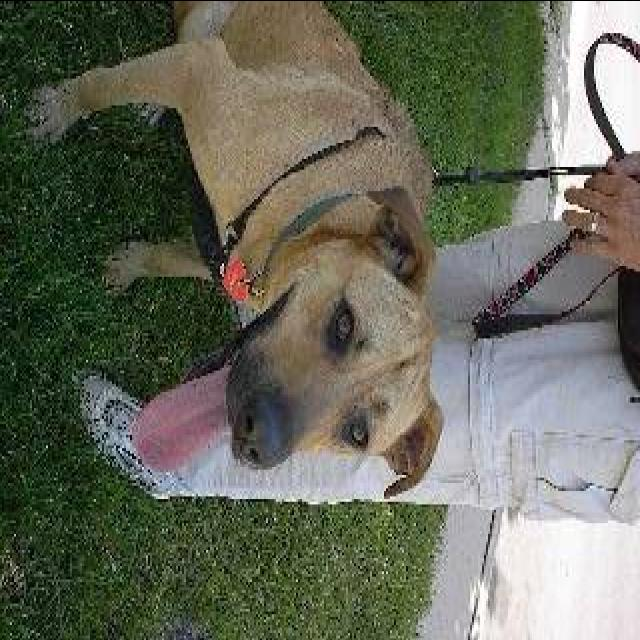dog: (56, 0, 484, 515)
